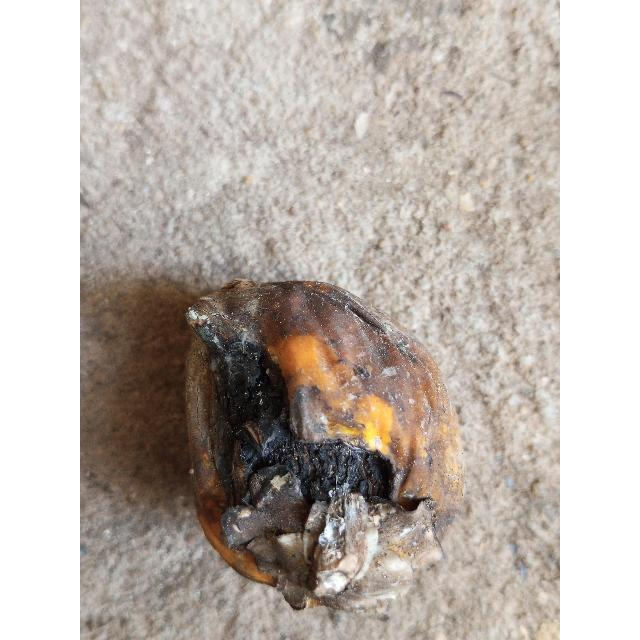damaged: (187, 280, 465, 617)
